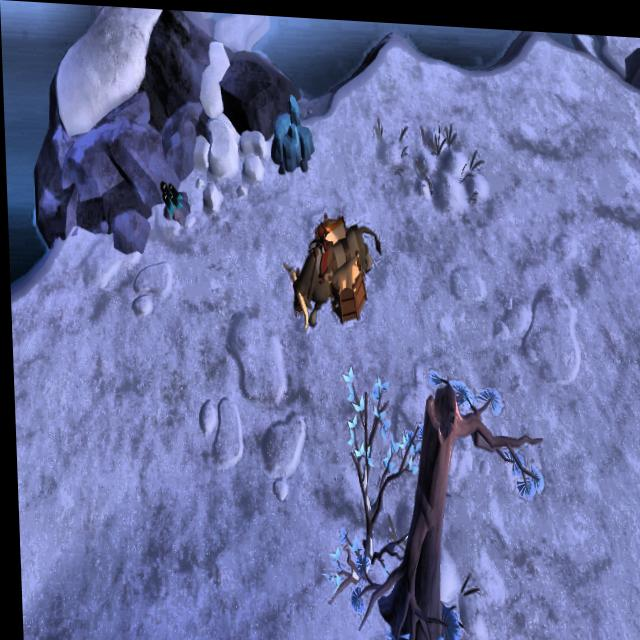ore_t4: (156, 175, 182, 217)
rock_t4: (269, 86, 317, 177)
